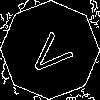V: (25, 25, 81, 81)
